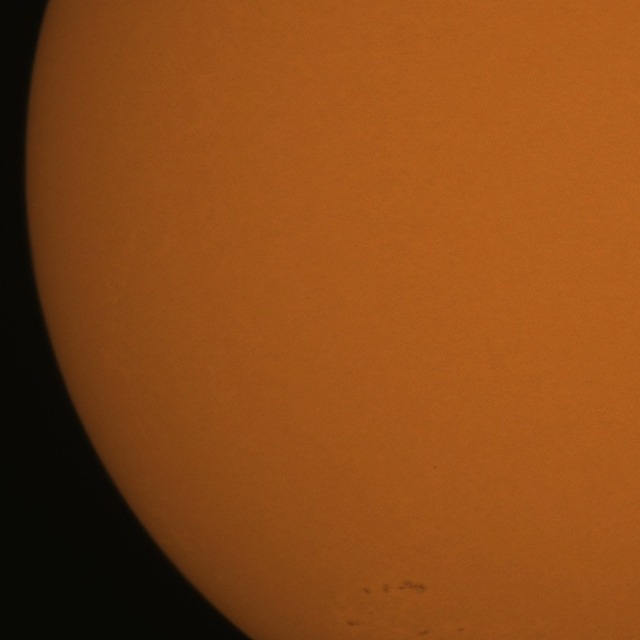sunspot: (398, 581, 426, 596), (418, 629, 430, 638), (363, 586, 373, 596), (382, 584, 390, 594)
